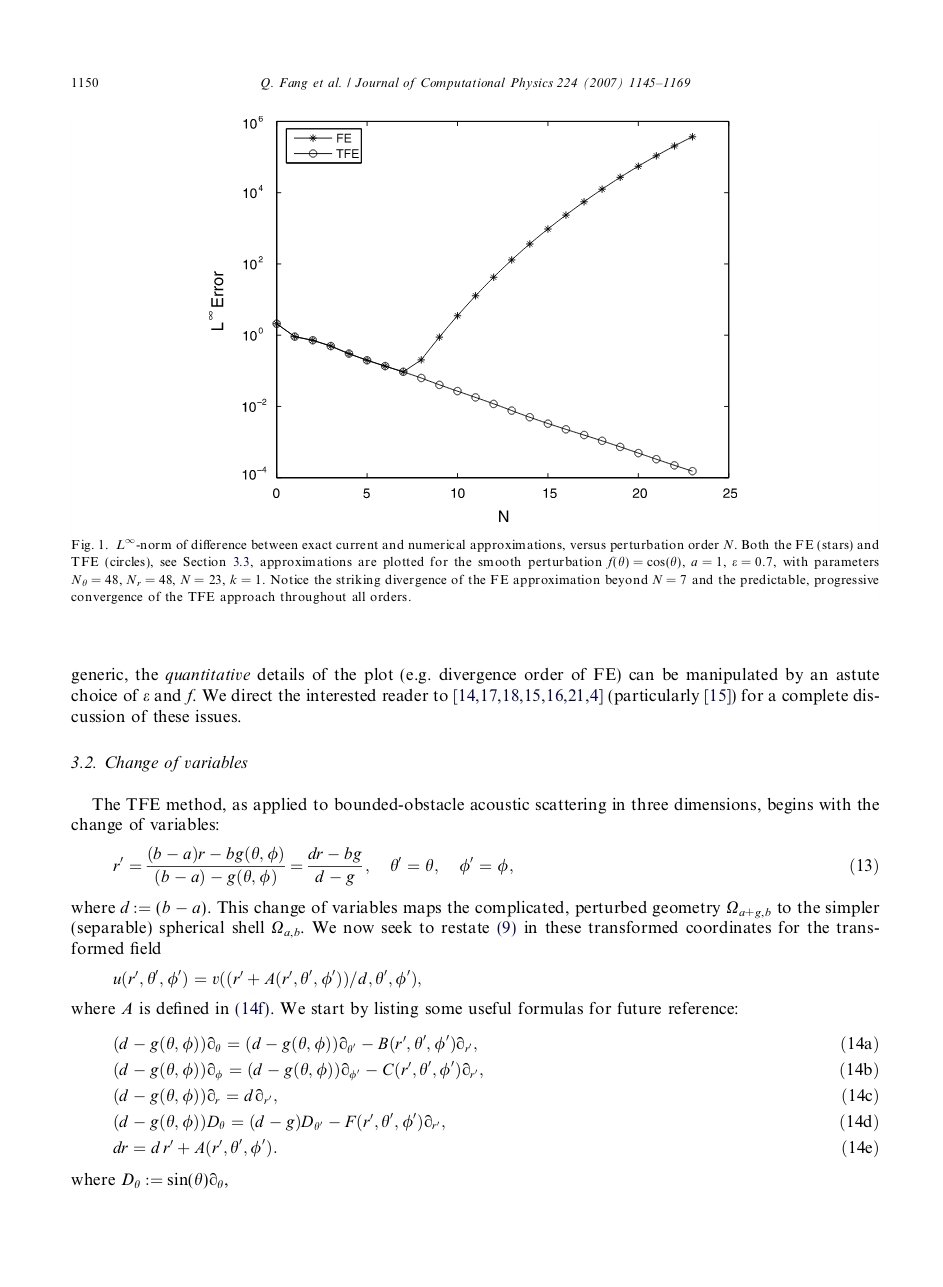figure: (209, 116, 736, 521)
formula: (113, 845, 877, 887), (114, 1032, 877, 1054), (113, 1137, 877, 1158), (114, 1060, 877, 1081), (114, 1111, 877, 1132), (114, 1087, 877, 1106), (113, 968, 420, 989)
